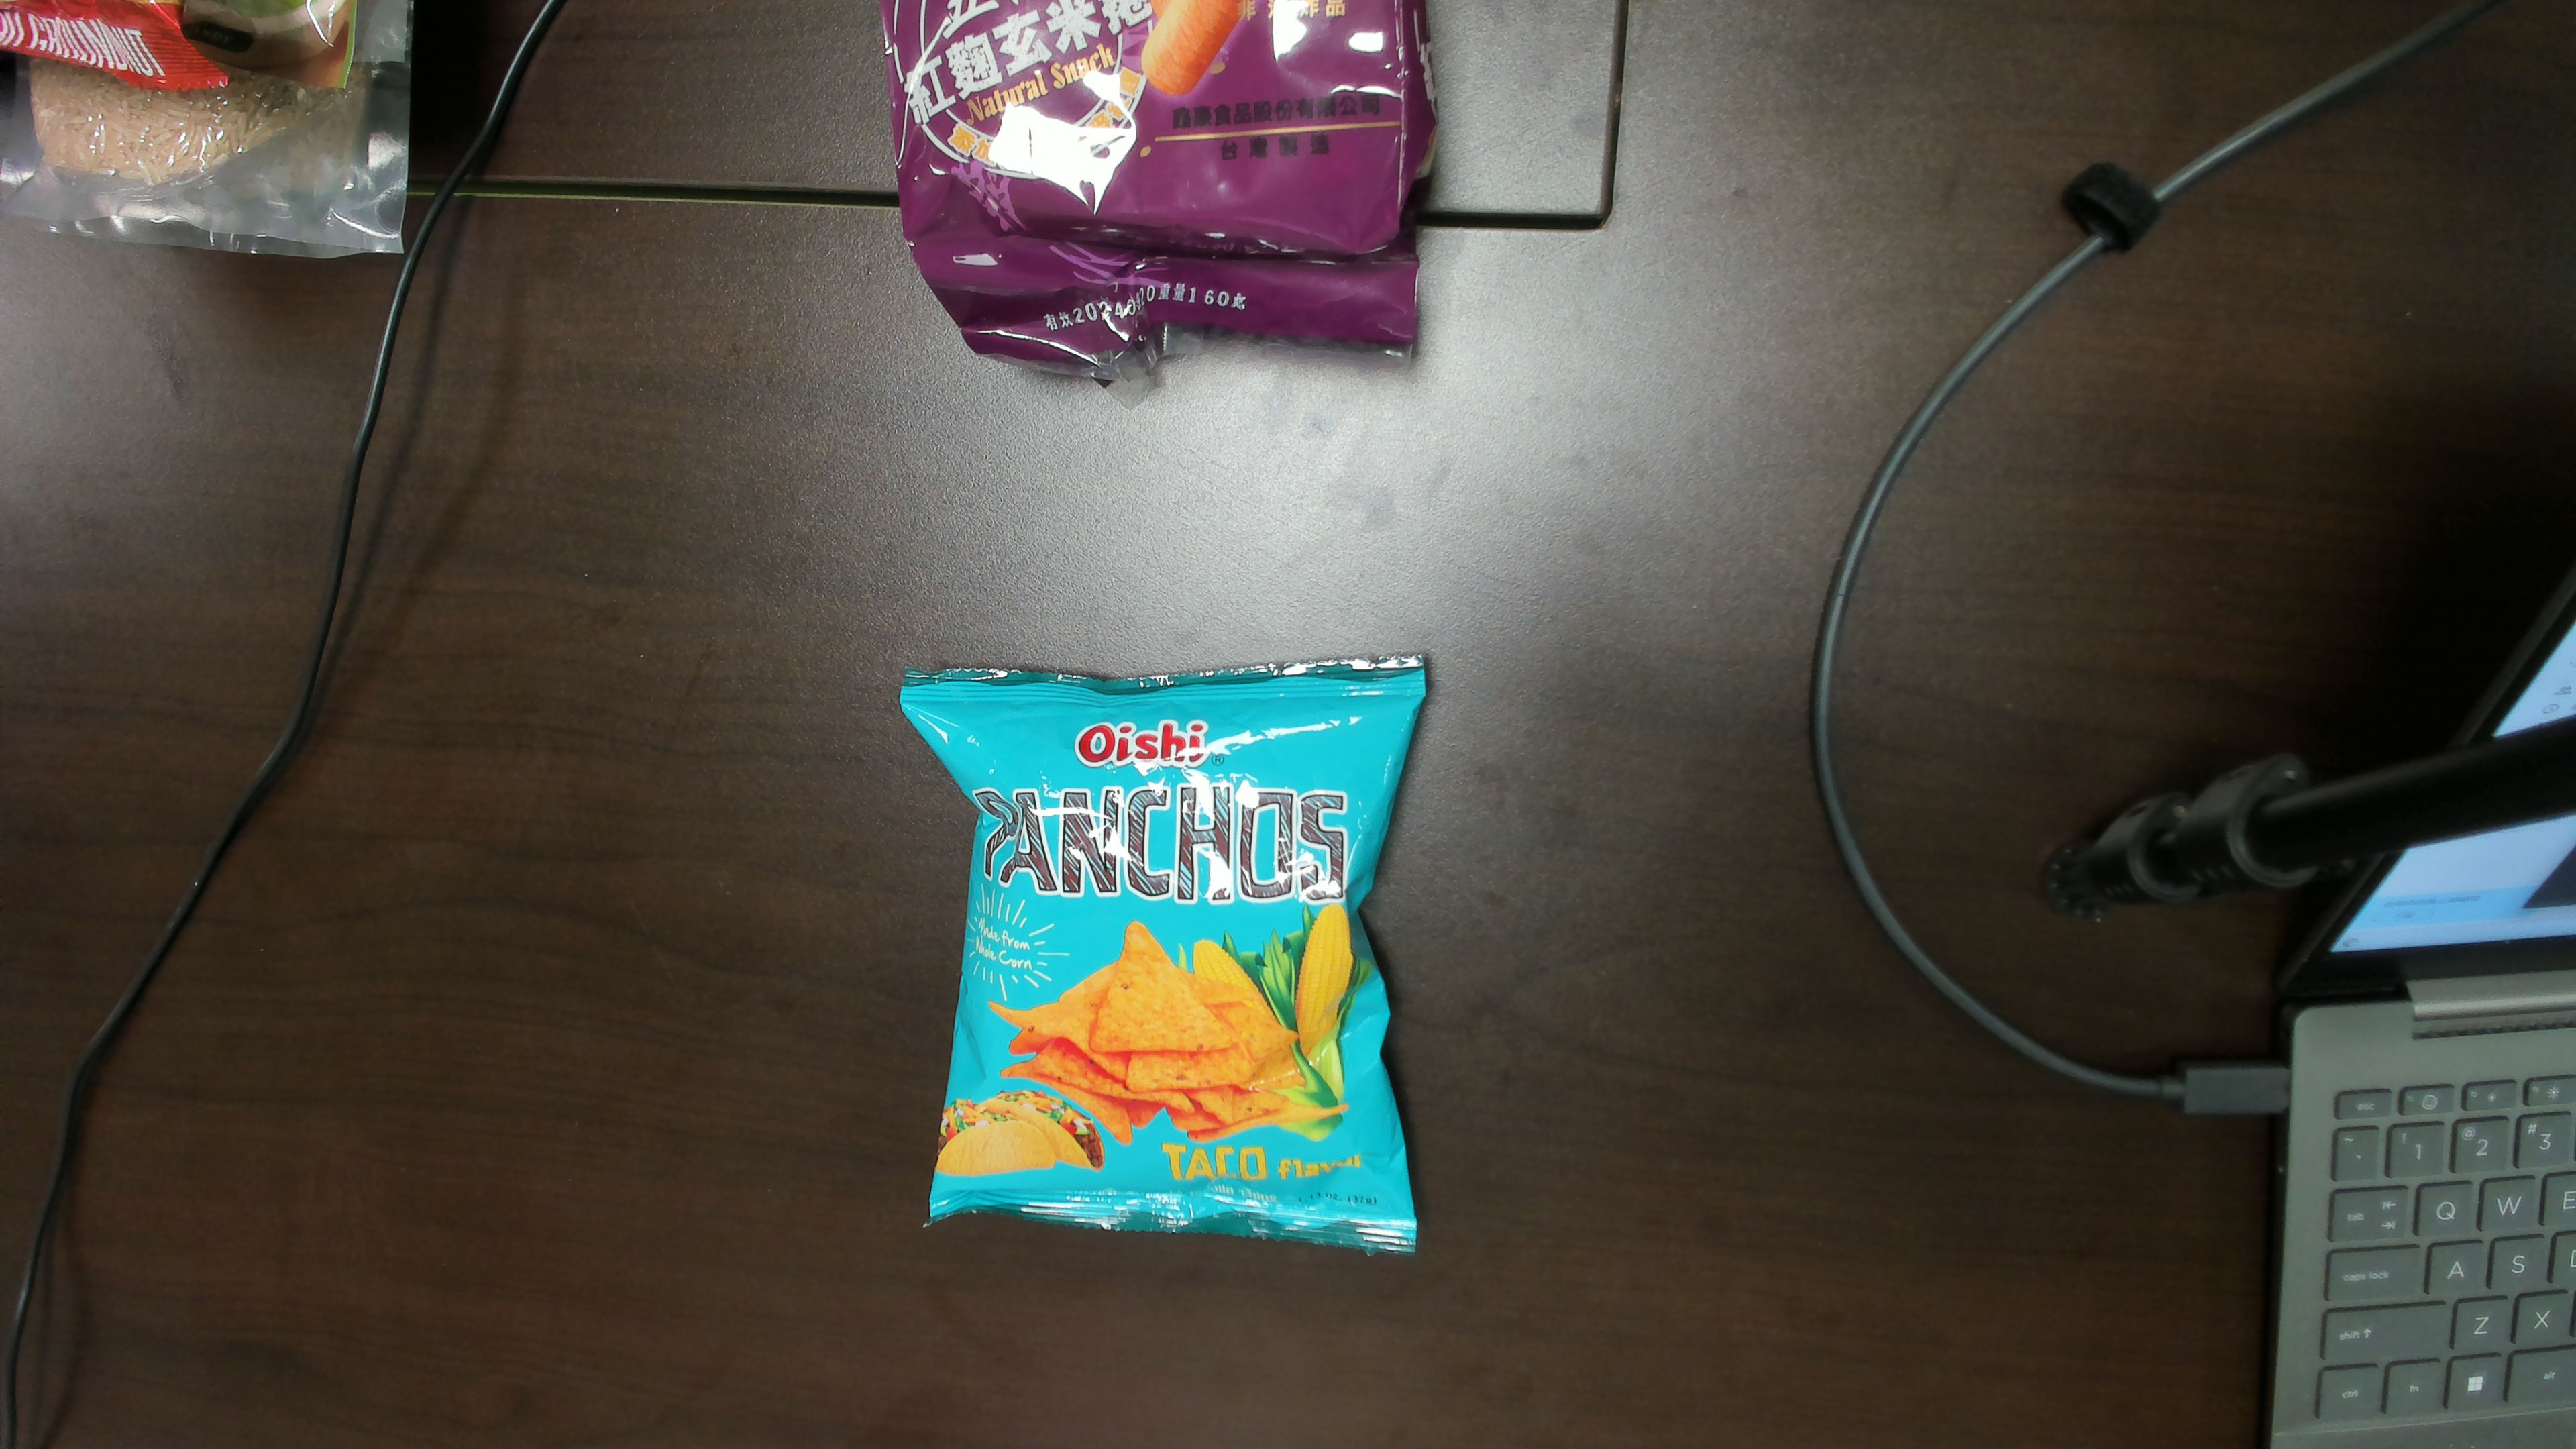PotatochipsKeropok_1-99g_NonHalal_NonHealthy: (957, 690, 1376, 1231)
